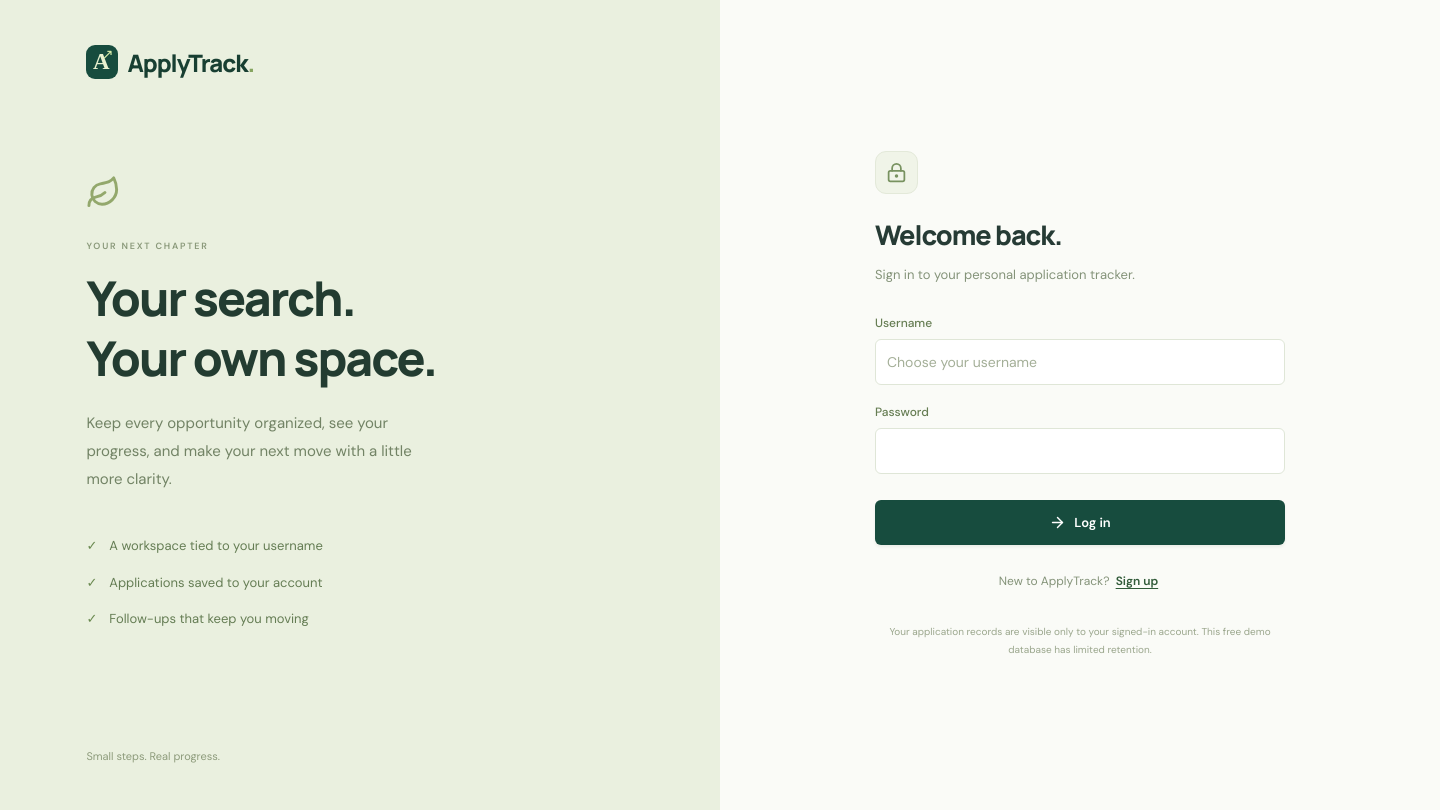
Scenario: validates username and password confirmation before contacting the API
Expected: the heading "Welcome back." is shown, [875, 216, 1062, 253]
Click the button "Sign up". click: (1137, 582)
box: [1113, 569, 1161, 595]
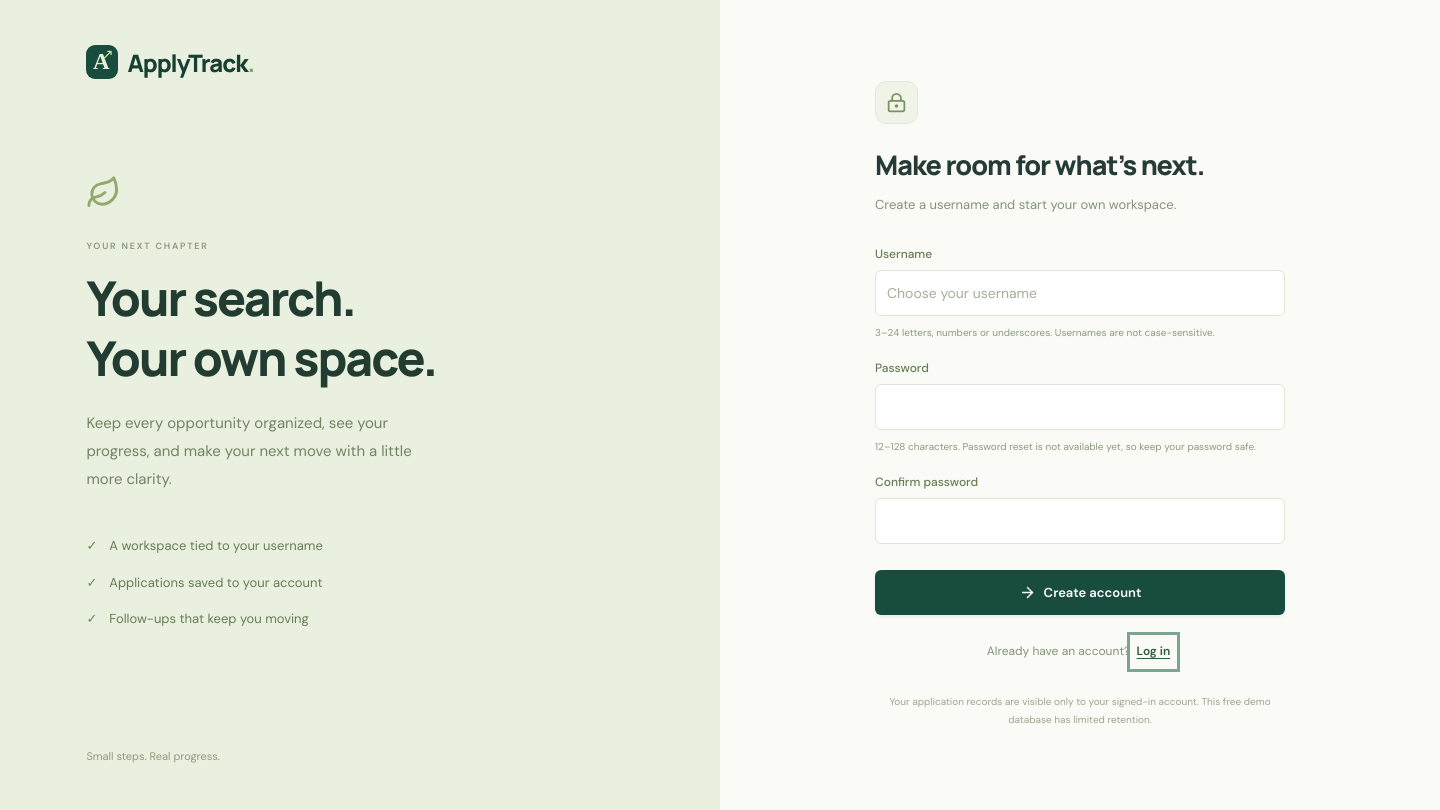
Type "bad name" into the field labelled "Username". click: (1080, 293)
box: [875, 270, 1285, 316]
Click the button "Create account". click: (1080, 592)
box: [875, 570, 1285, 615]
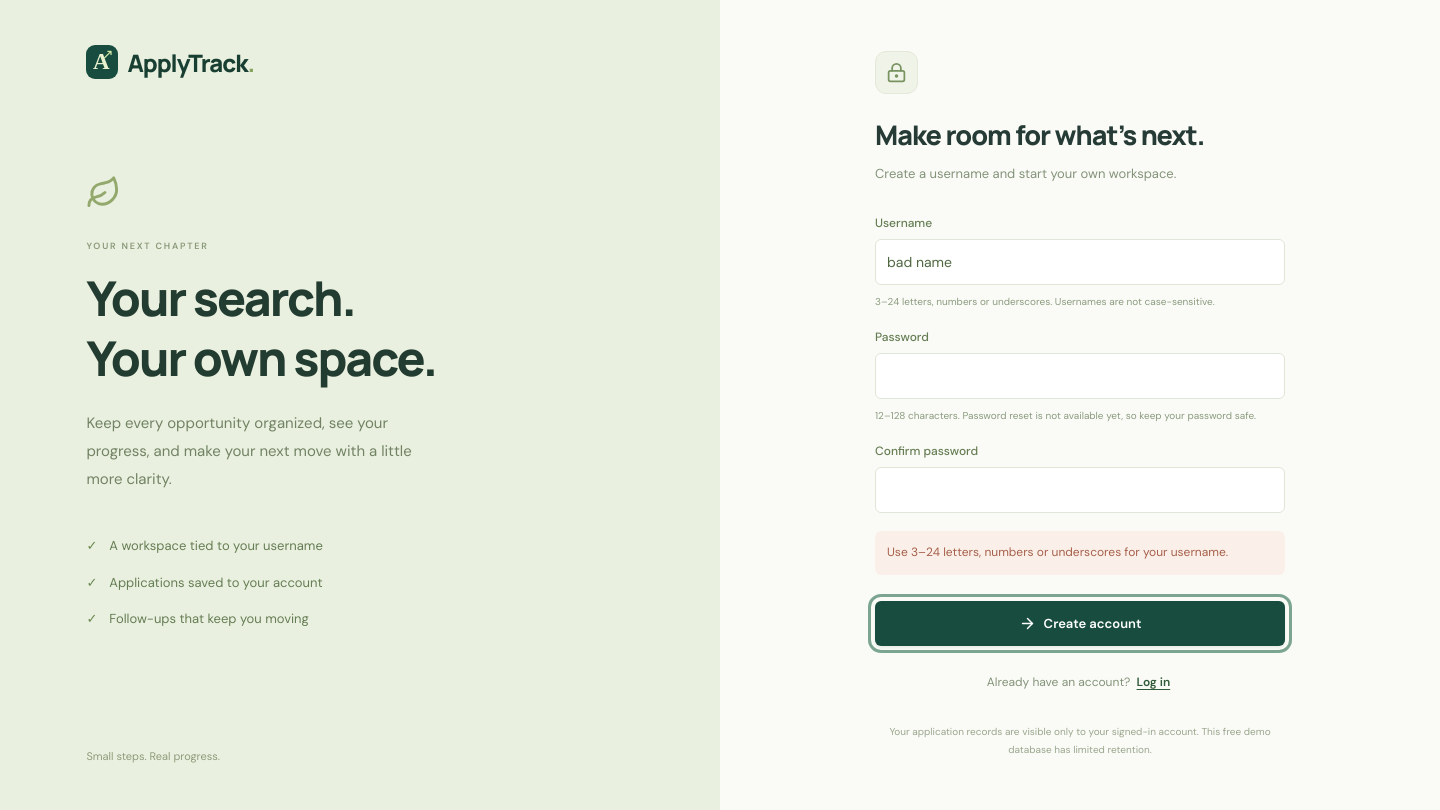
Expected: the message shows "letters, numbers", [887, 544, 1228, 560]
Replace the text in the field labelled "Username" with "Alice". click: (1080, 262)
box: [875, 239, 1285, 285]
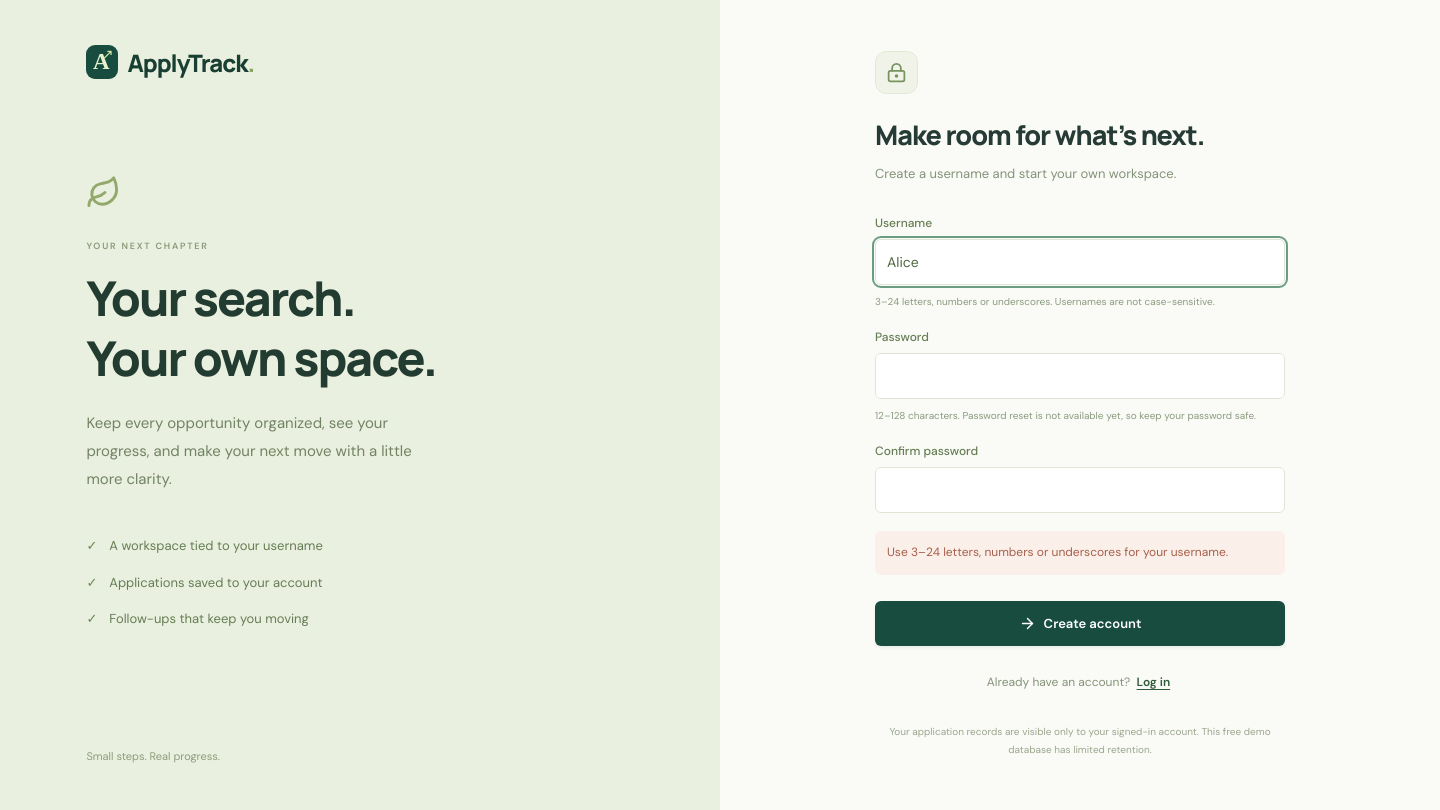
Type "Disposable-password-123!" into the password field labelled "Password". click: (1080, 376)
box: [875, 353, 1285, 399]
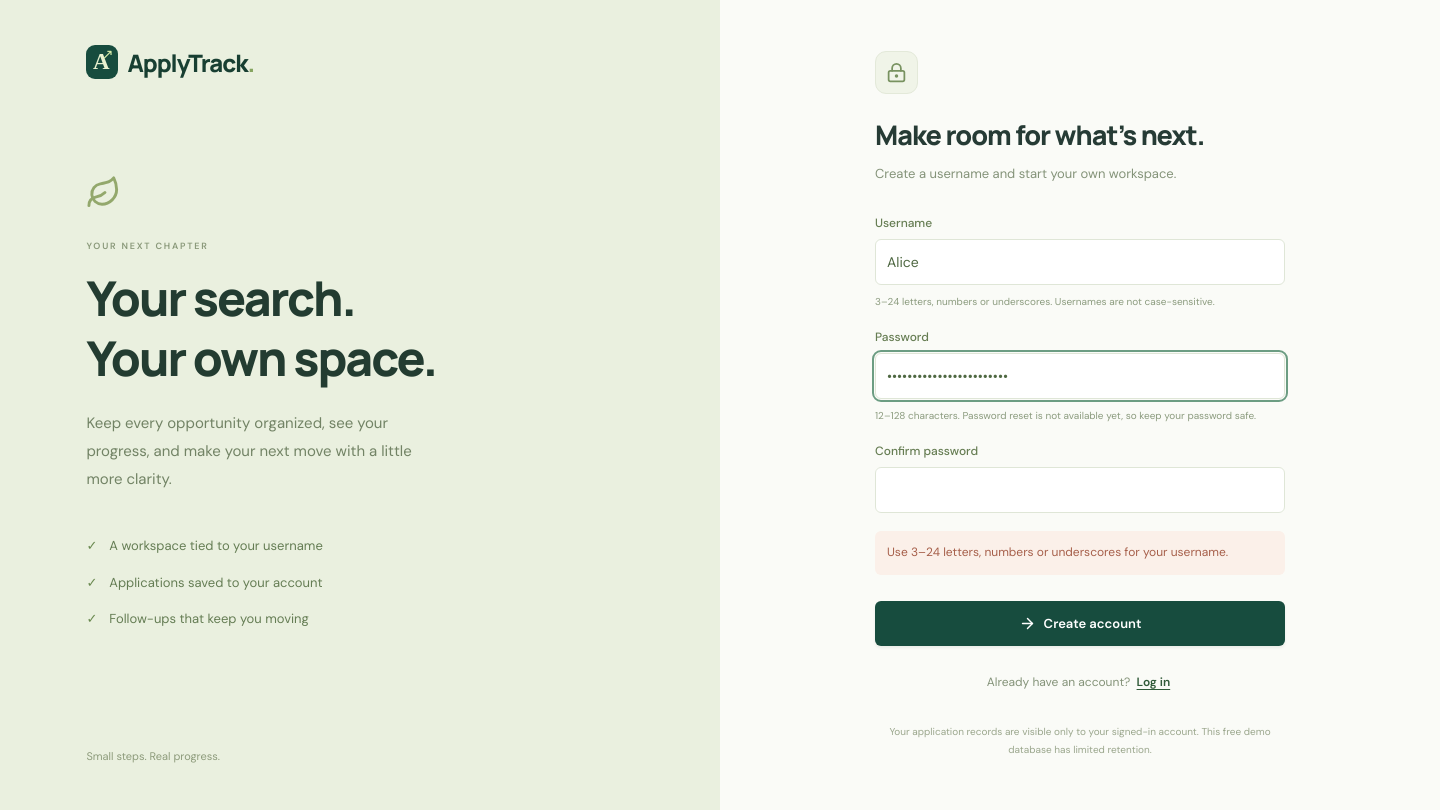
Type "Does-not-match-123!" into the password field labelled "Confirm password". click: (1080, 490)
box: [875, 467, 1285, 513]
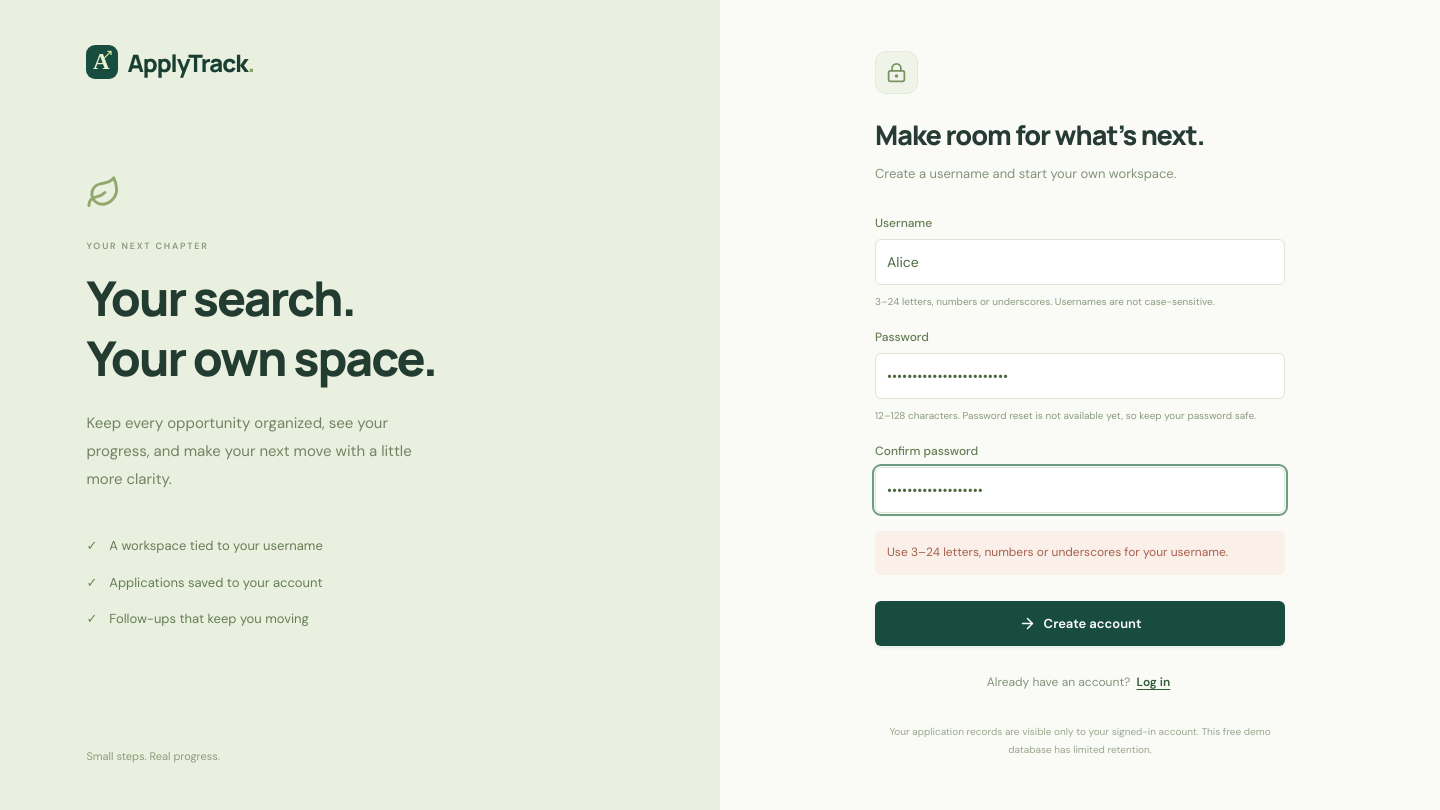
Click the button "Create account". click: (1080, 623)
box: [875, 601, 1285, 646]
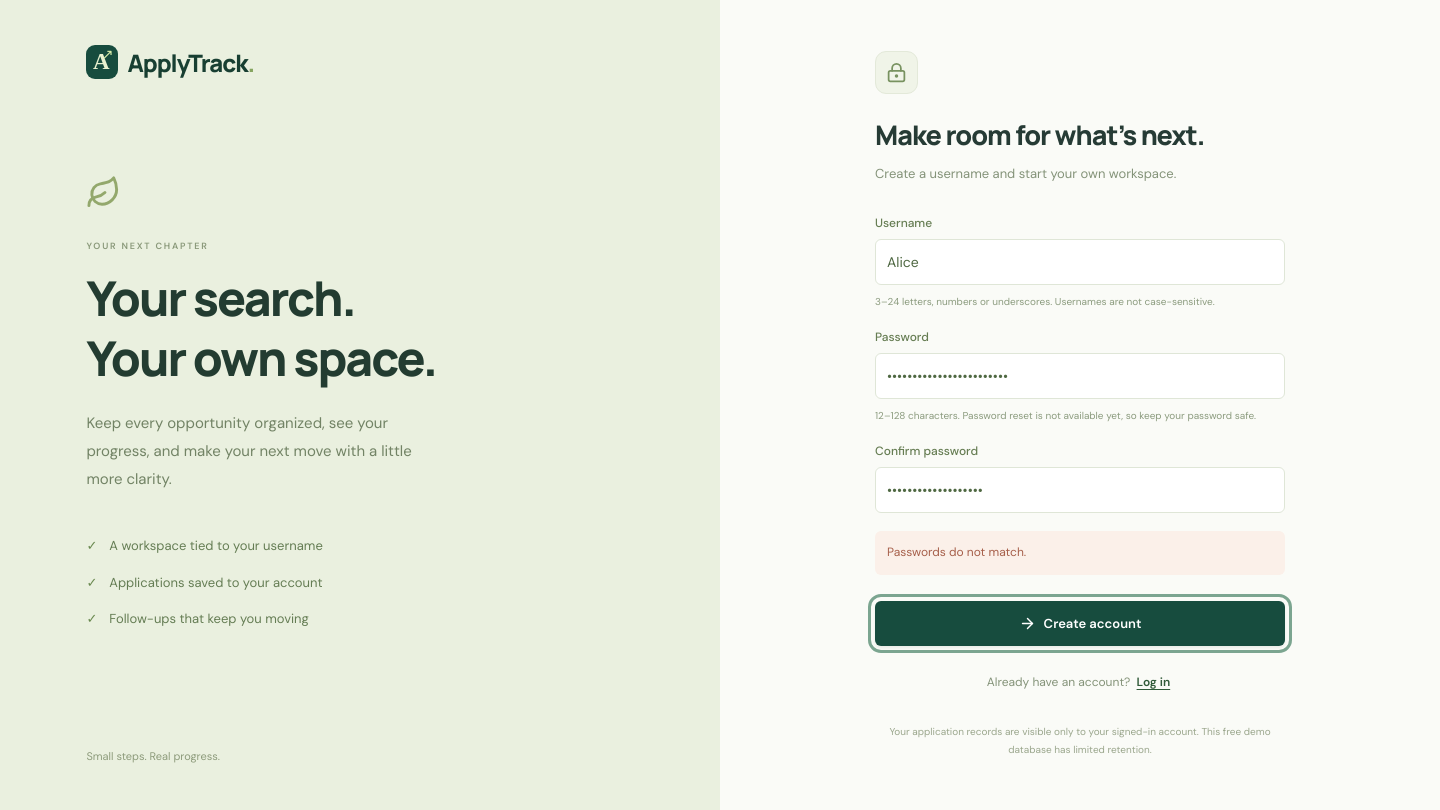
Expected: the message shows "Passwords do not match", [887, 544, 1026, 560]
